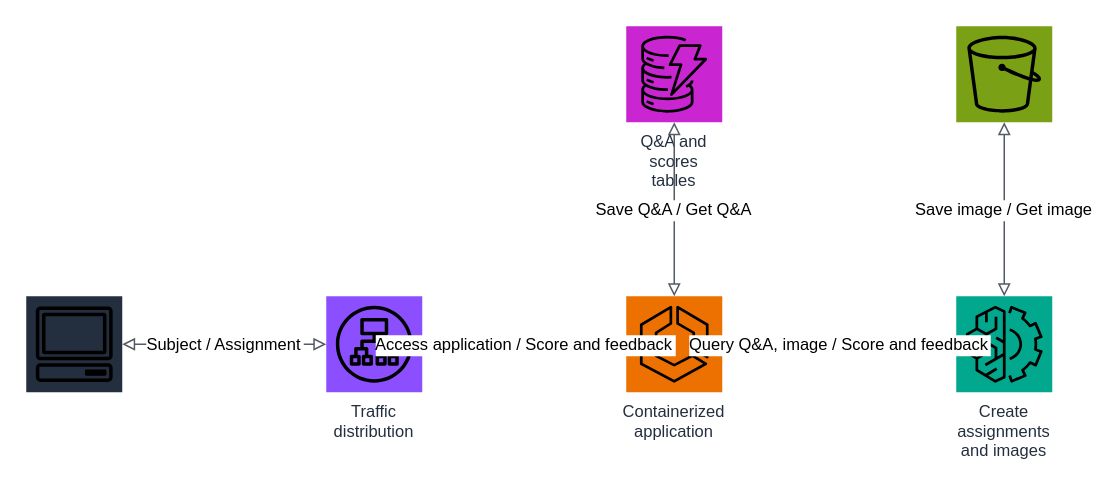
Image size: 1119x488. Some labels were removed from this diagram. Each missing label, with the box of its shape:
Generated images: (956, 26, 1052, 122)
Teachers and students: (26, 296, 122, 392)
